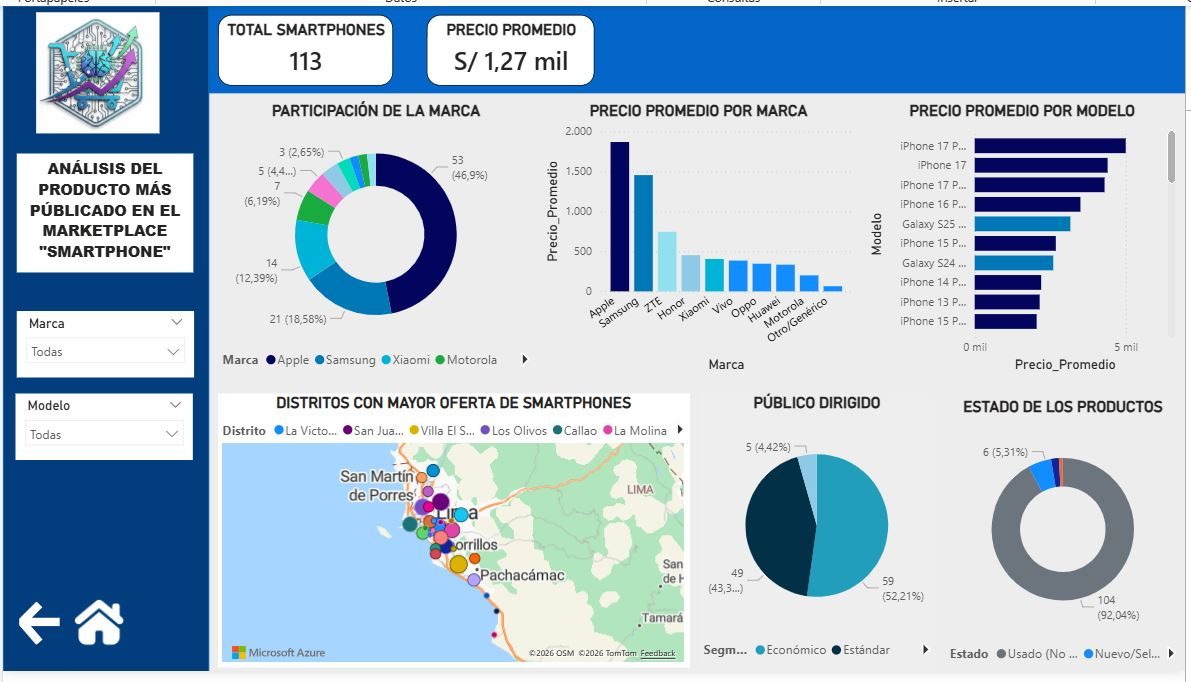

The page's visual inventory and layout, read from the dashboard file:
{"tool":"powerbi","page":{"name":"Analisis_Smartphone","canvas":[1280,720],"ordinal":4},"visuals":[{"type":"shape","box":[205.7,0,1074.6,94.7],"z":0},{"type":"shape","box":[0,0,223.2,721.5],"z":1000},{"type":"image","box":[27.4,7.1,151.2,131],"z":2000},{"type":"textbox","box":[14.9,159.7,190.8,128.6],"z":3000},{"type":"slicer","fields":{"Values":["analisis_precios_marcas (2).Marca"]},"box":[14.9,330.2,192.2,71.7],"z":4000},{"type":"columnChart","title":"PRECIO PROMEDIO POR MARCA","fields":{"Category":["analisis_precios_marcas (2).Marca"],"Y":["Avg(analisis_precios_marcas (2).Precio_Promedio)"]},"box":[581.9,102.9,342.4,299.1],"z":5000},{"type":"pieChart","title":"PÚBLICO DIRIGIDO","fields":{"Category":["dataset_mkpfacebook_electronica_v2.Segmento"],"Y":["dataset_mkpfacebook_electronica_v2.Publicaciones_Filtradas"]},"box":[753.8,419.5,255,296.4],"z":6000},{"type":"donutChart","title":"ESTADO DE LOS PRODUCTOS","fields":{"Category":["dataset_mkpfacebook_electronica_v2.Estado"],"Y":["dataset_mkpfacebook_electronica_v2.Publicaciones_Filtradas"]},"box":[1020.4,423.6,254.4,296.4],"z":7000},{"type":"clusteredBarChart","title":"PRECIO PROMEDIO POR MODELO ","fields":{"Y":["Avg(analisis_precios_modelos.Precio_Num)"],"Category":["analisis_precios_modelos.Modelo"]},"box":[932.5,102.9,342,299.1],"z":8000},{"type":"azureMap","title":"DISTRITOS CON MAYOR OFERTA DE SMARTPHONES","fields":{"X":["Tabla_Geografica.Longitud"],"Y":["Tabla_Geografica.Latitud"],"Series":["Tabla_Geografica.Distrito"],"Size":["dataset_mkpfacebook_electronica_v2.Publicaciones_Filtradas"]},"box":[232.8,419.5,510.2,296.4],"z":9000},{"type":"cardVisual","title":"TOTAL SMARTPHONES","fields":{"Data":["CountNonNull(dataset_mkpfacebook_electronica_v2.Titulo_Limpio)"]},"box":[232.8,9.5,189.5,77.1],"z":10000},{"type":"cardVisual","title":"PRECIO PROMEDIO","fields":{"Data":["Avg(dataset_mkpfacebook_electronica_v2.Precio_Num)"]},"box":[458.8,9.5,181.3,77.1],"z":11000},{"type":"donutChart","title":"PARTICIPACIÓN DE LA MARCA","fields":{"Y":["CountNonNull(dataset_mkpfacebook_electronica_v2.Titulo_Limpio)"],"Category":["dataset_mkpfacebook_electronica_v2.Marca"]},"box":[232.8,102.9,342.4,299.1],"z":12000},{"type":"slicer","fields":{"Values":["analisis_precios_modelos.Modelo"]},"box":[13.5,419.5,192.2,71.7],"z":13000},{"type":"image","box":[67.9,632.1,72.6,73.8],"z":14000},{"type":"actionButton","box":[13.1,640.5,54.8,56],"z":15000}]}

Visuals, with their boxes on the page's 1280x720 design canvas (x1, y1, x2, y2). These are canvas units, not pixel positions in the 1191x682 screenshot, which may show the page scaled, cropped or inside an application window:
shape: Rect(206, 0, 1280, 95)
shape: Rect(0, 0, 223, 722)
image: Rect(27, 7, 179, 138)
textbox: Rect(15, 160, 206, 288)
slicer - analisis_precios_marcas (2).Marca: Rect(15, 330, 207, 402)
"PRECIO PROMEDIO POR MARCA" columnChart: Rect(582, 103, 924, 402)
"PÚBLICO DIRIGIDO" pieChart: Rect(754, 420, 1009, 716)
"ESTADO DE LOS PRODUCTOS" donutChart: Rect(1020, 424, 1275, 720)
"PRECIO PROMEDIO POR MODELO " clusteredBarChart: Rect(932, 103, 1274, 402)
"DISTRITOS CON MAYOR OFERTA DE SMARTPHONES" azureMap: Rect(233, 420, 743, 716)
"TOTAL SMARTPHONES" cardVisual: Rect(233, 10, 422, 87)
"PRECIO PROMEDIO" cardVisual: Rect(459, 10, 640, 87)
"PARTICIPACIÓN DE LA MARCA" donutChart: Rect(233, 103, 575, 402)
slicer - analisis_precios_modelos.Modelo: Rect(14, 420, 206, 491)
image: Rect(68, 632, 140, 706)
actionButton: Rect(13, 640, 68, 696)
